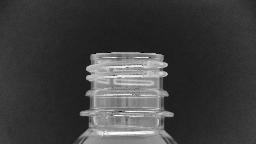No Cap: (74, 46, 178, 122)
